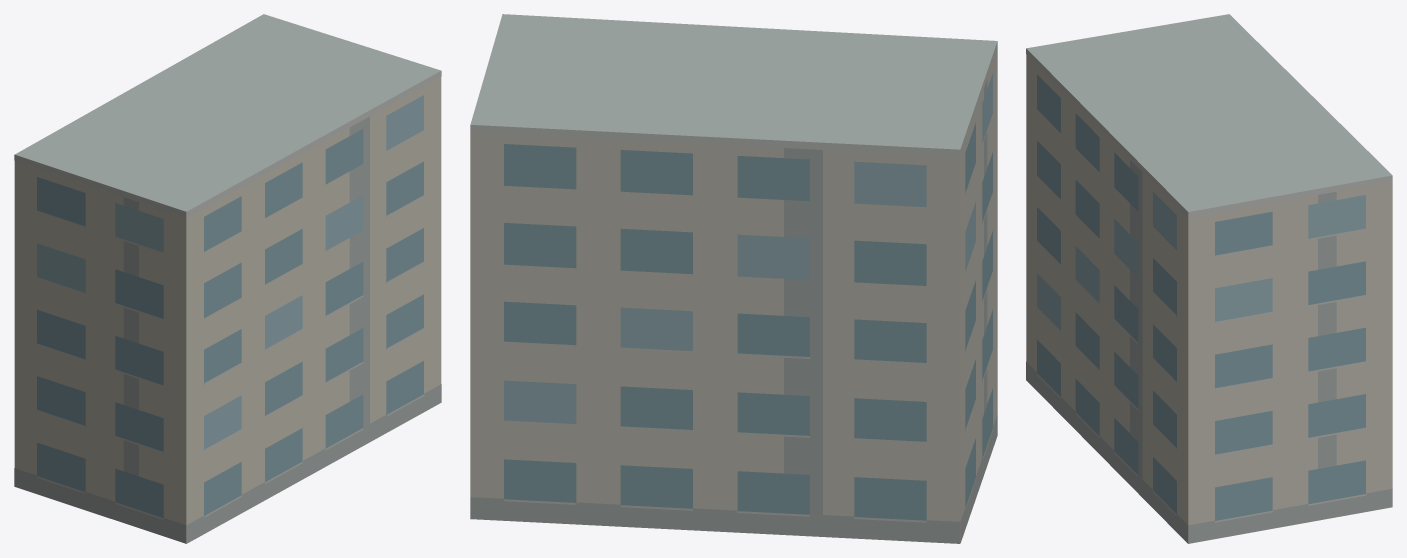
The model's file is survey-upis-32849683.glb.
The picture shows the model from 3 angles, left to right: view 1: azimuth 30°, elevation 25°; view 2: azimuth 150°, elevation 25°; view 3: azimuth 270°, elevation 25°; orthographic projection. The views are drawn at different scales.
Visible parts, largest first — view 1: survey-upis-32849683.tmp; view 2: survey-upis-32849683.tmp; view 3: survey-upis-32849683.tmp.
Part boxes in pixels (x1,y1,x2,y2): survey-upis-32849683.tmp: (14, 14, 441, 543); survey-upis-32849683.tmp: (470, 14, 997, 543); survey-upis-32849683.tmp: (1026, 14, 1392, 543).
Bounding box in the file's own units: 16.91 × 13.2 × 13.22.
